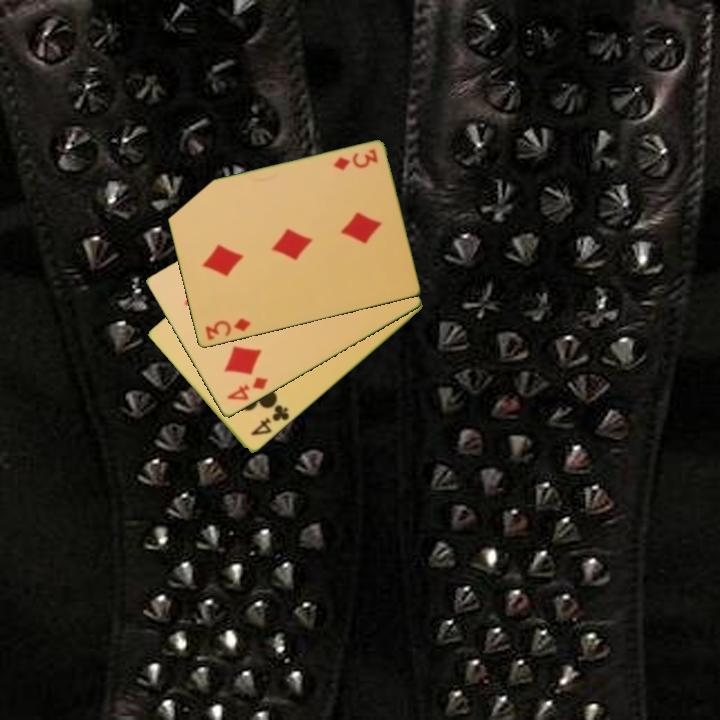3d: (201, 315, 253, 343), (330, 146, 381, 173)
4c: (247, 401, 292, 439)
4d: (223, 374, 271, 404)
